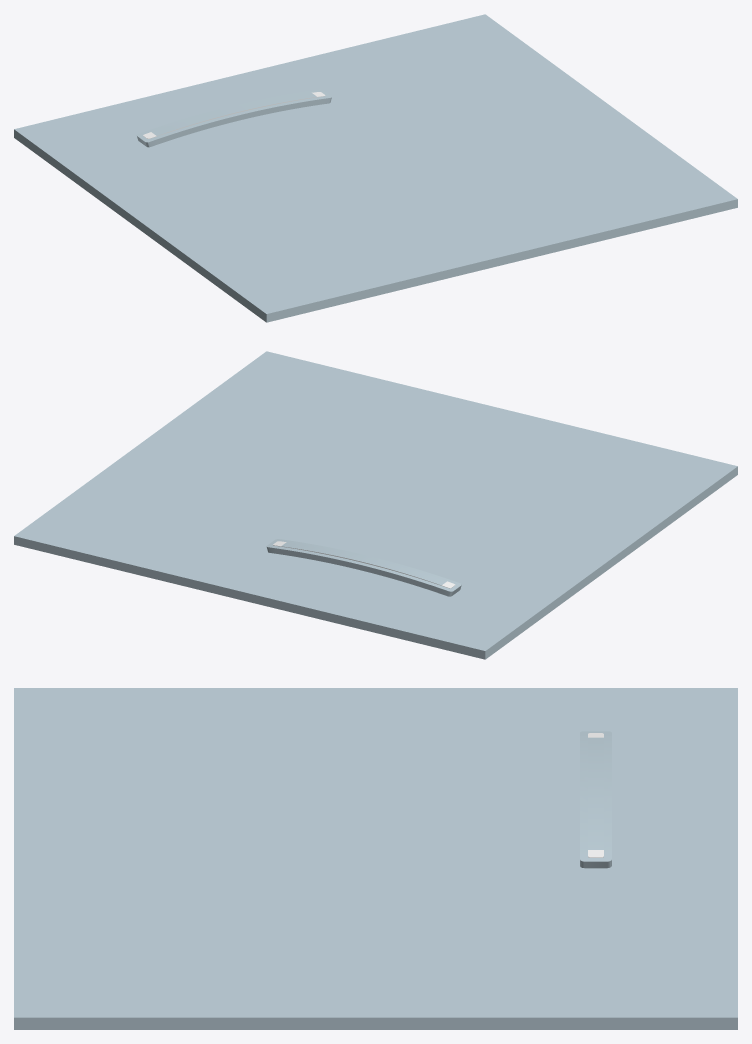
The picture shows the model from 3 angles, top to bottom: view 1: azimuth 30°, elevation 25°; view 2: azimuth 150°, elevation 25°; view 3: azimuth 270°, elevation 25°; orthographic projection. The views are drawn at different scales.
Parts seen in each view (by area): view 1: pCube180.001; view 2: pCube180.001; view 3: pCube180.001.
Part boxes in pixels (box(x1,y1,x2,y2)): pCube180.001: box(14, 14, 737, 322); pCube180.001: box(14, 351, 737, 659); pCube180.001: box(14, 688, 737, 1029).
Size of the model in its own units: 59.66 by 2.68 by 55.37.
4 materials, 3 textured.
